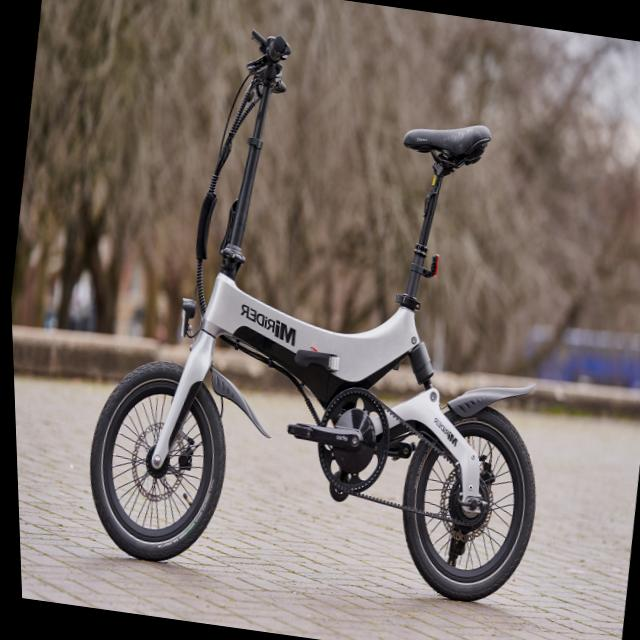folding-bike: (57, 8, 598, 618)
